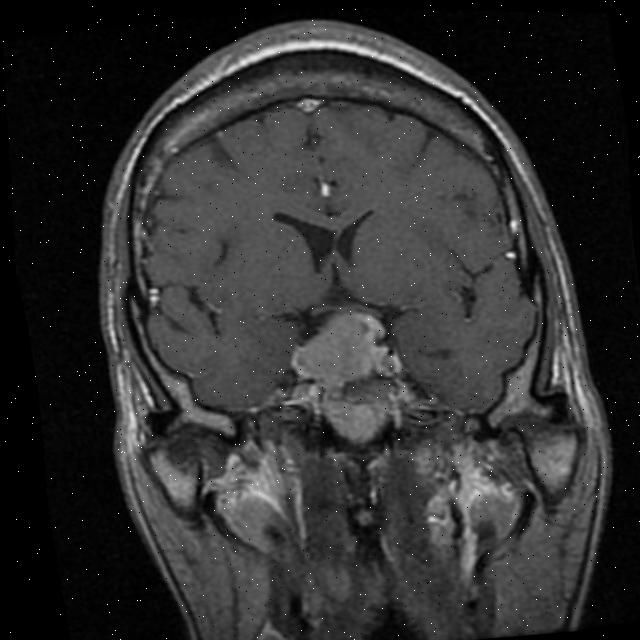Pituitary: (283, 306, 396, 388), (316, 378, 398, 445)
